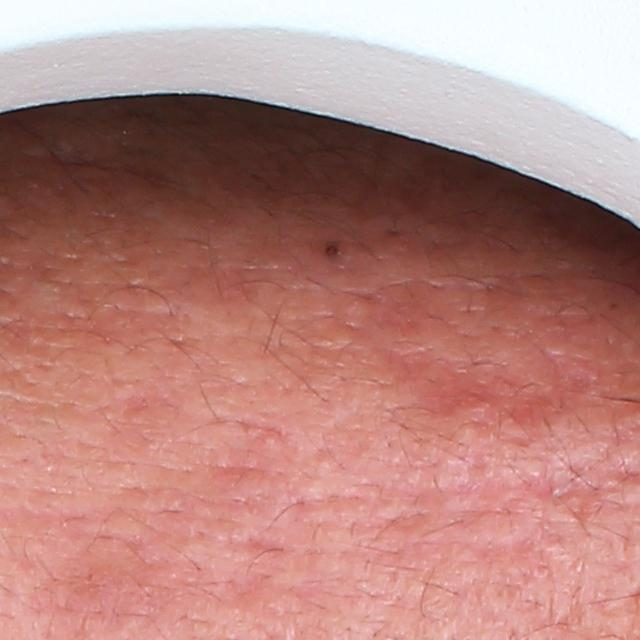atrophic_scar: (368, 337, 620, 435)
